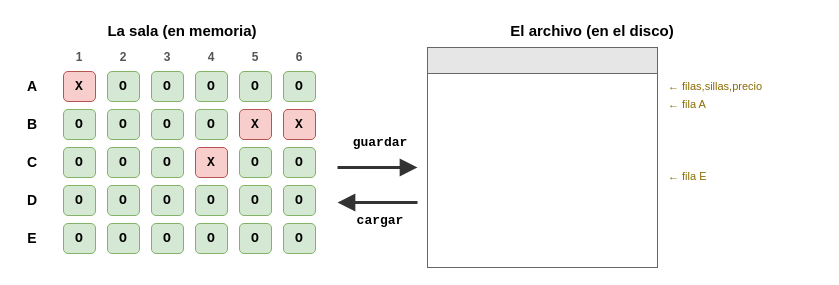
The diagram is 839 pixels wide and 285 high, and some of its shapes have lost their labels. Here are the shapes that lost their labels. From the top down, the centre of each, then its label:
point 542,60: 📄 sala.txt
point 542,170: 5,6,5000 XOOOOO OOOOXX OOOXOO OOOOOO OOOOOO
